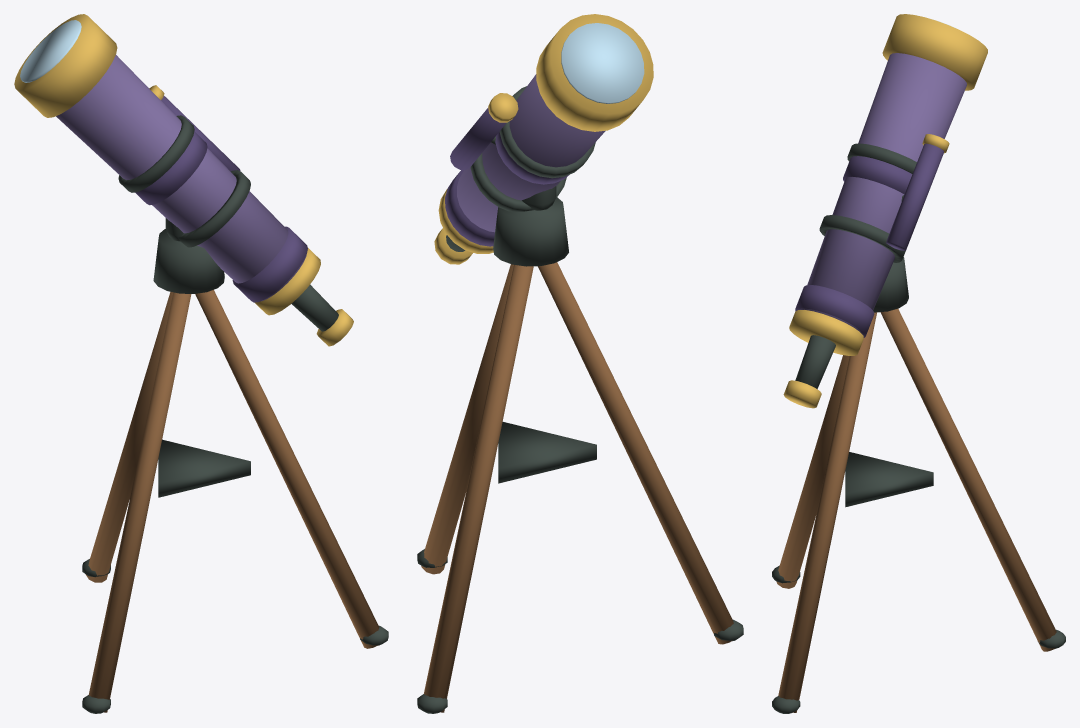
Rendered from star-telescope.glb.
3 views of the same model, side by side, from view 1: azimuth 30°, elevation 25°; view 2: azimuth 150°, elevation 25°; view 3: azimuth 270°, elevation 25° (orthographic). The views are drawn at different scales.
Visible parts, largest first — view 1: telescope; view 2: telescope; view 3: telescope.
Part boxes in pixels (x1=…): telescope: x1=14, y1=14, x2=388, y2=713; telescope: x1=417, y1=14, x2=743, y2=713; telescope: x1=772, y1=14, x2=1065, y2=713.
Size of the model in its own units: 0.6778 by 1.34 by 0.5971.
